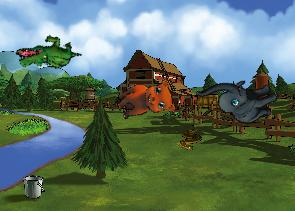bear: (111, 71, 181, 133)
crocodile: (13, 25, 82, 83)
elephant: (195, 58, 283, 140)
